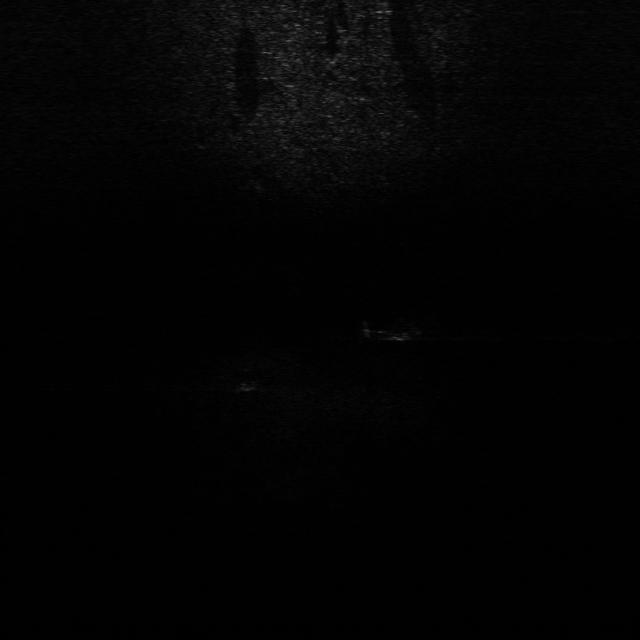ball: (227, 366, 263, 394)
human body: (353, 315, 439, 343)
